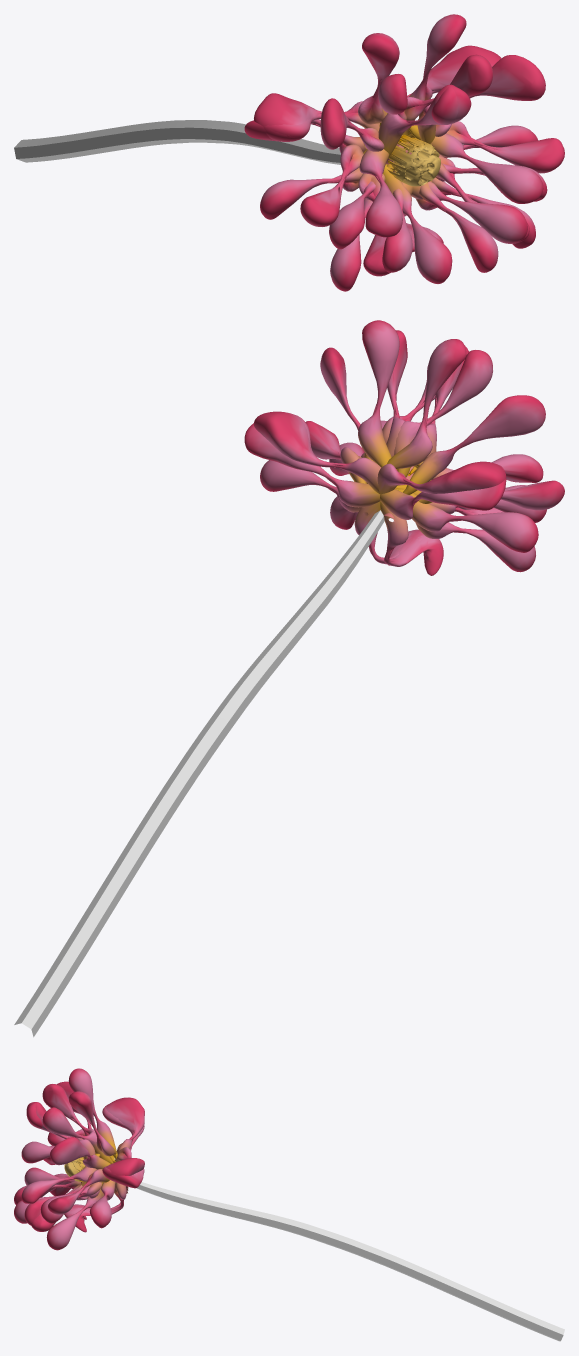
3 views of the same model, one above another, from view 1: azimuth 30°, elevation 25°; view 2: azimuth 150°, elevation 25°; view 3: azimuth 270°, elevation 25° (orthographic). The views are drawn at different scales.
Parts seen in each view (by area): view 1: LOD 2_634a5d68-0e51-5752-9ff0-c671a2fe1265; view 2: LOD 2_634a5d68-0e51-5752-9ff0-c671a2fe1265; view 3: LOD 2_634a5d68-0e51-5752-9ff0-c671a2fe1265.
Boxes of the visible parts, x1,y1,x2,y2 form: LOD 2_634a5d68-0e51-5752-9ff0-c671a2fe1265: (14, 14, 564, 291); LOD 2_634a5d68-0e51-5752-9ff0-c671a2fe1265: (14, 320, 564, 1037); LOD 2_634a5d68-0e51-5752-9ff0-c671a2fe1265: (14, 1068, 564, 1341).
Size of the model in its own units: 5.91 by 8.7 by 16.68.
